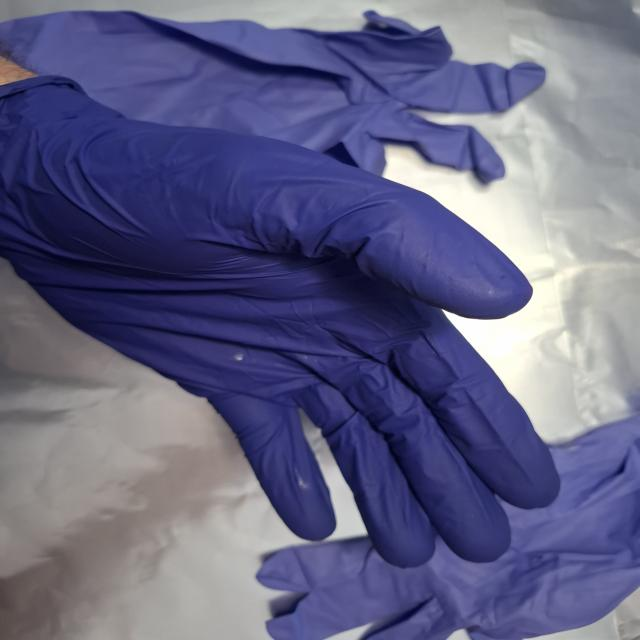glove_on: (0, 74, 564, 572)
